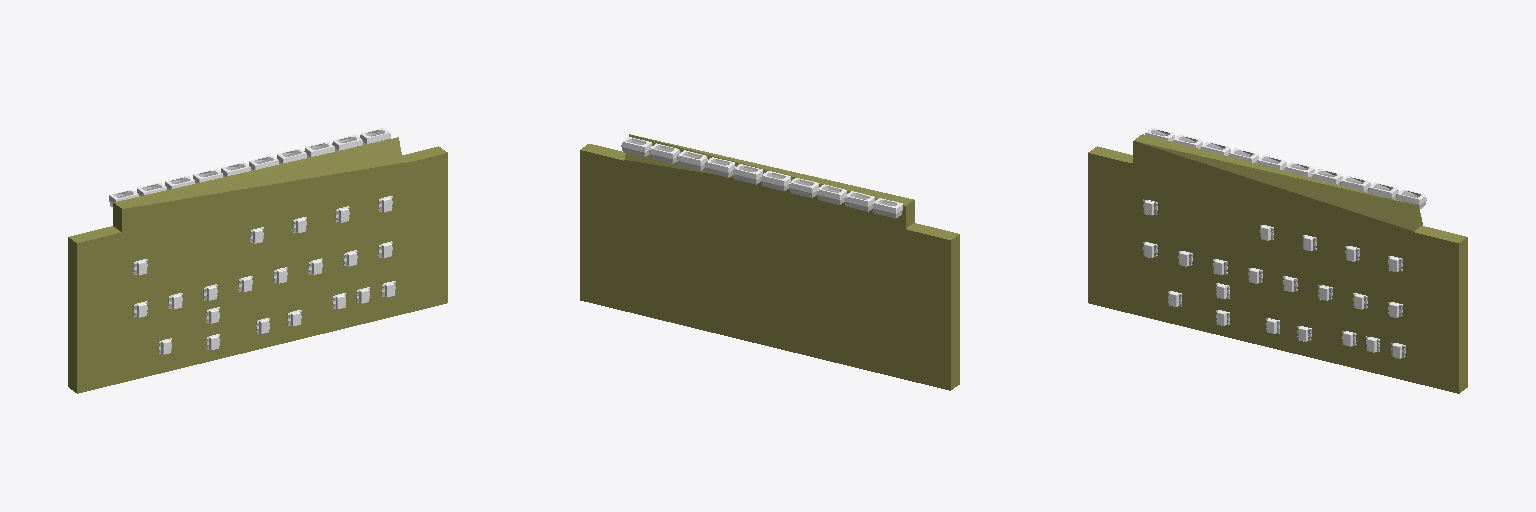
Rendered from OBJ_PCB_TR590_SensorPanel.obj.
3 views of the same model, side by side, from view 1: azimuth 30°, elevation 25°; view 2: azimuth 150°, elevation 25°; view 3: azimuth 330°, elevation 25° (orthographic).
Size of the model in its own units: 241 by 109 by 21.22.